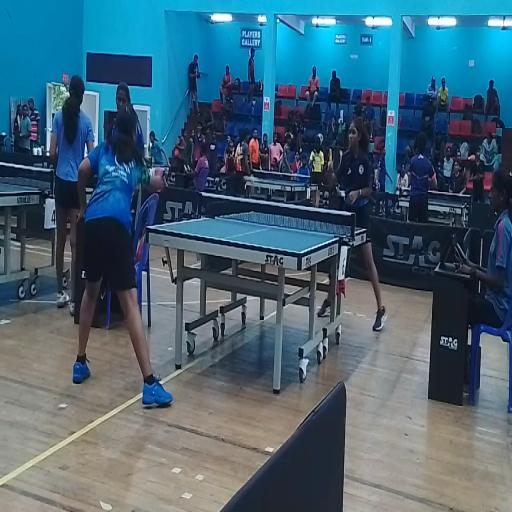ball: (251, 176, 255, 185)
